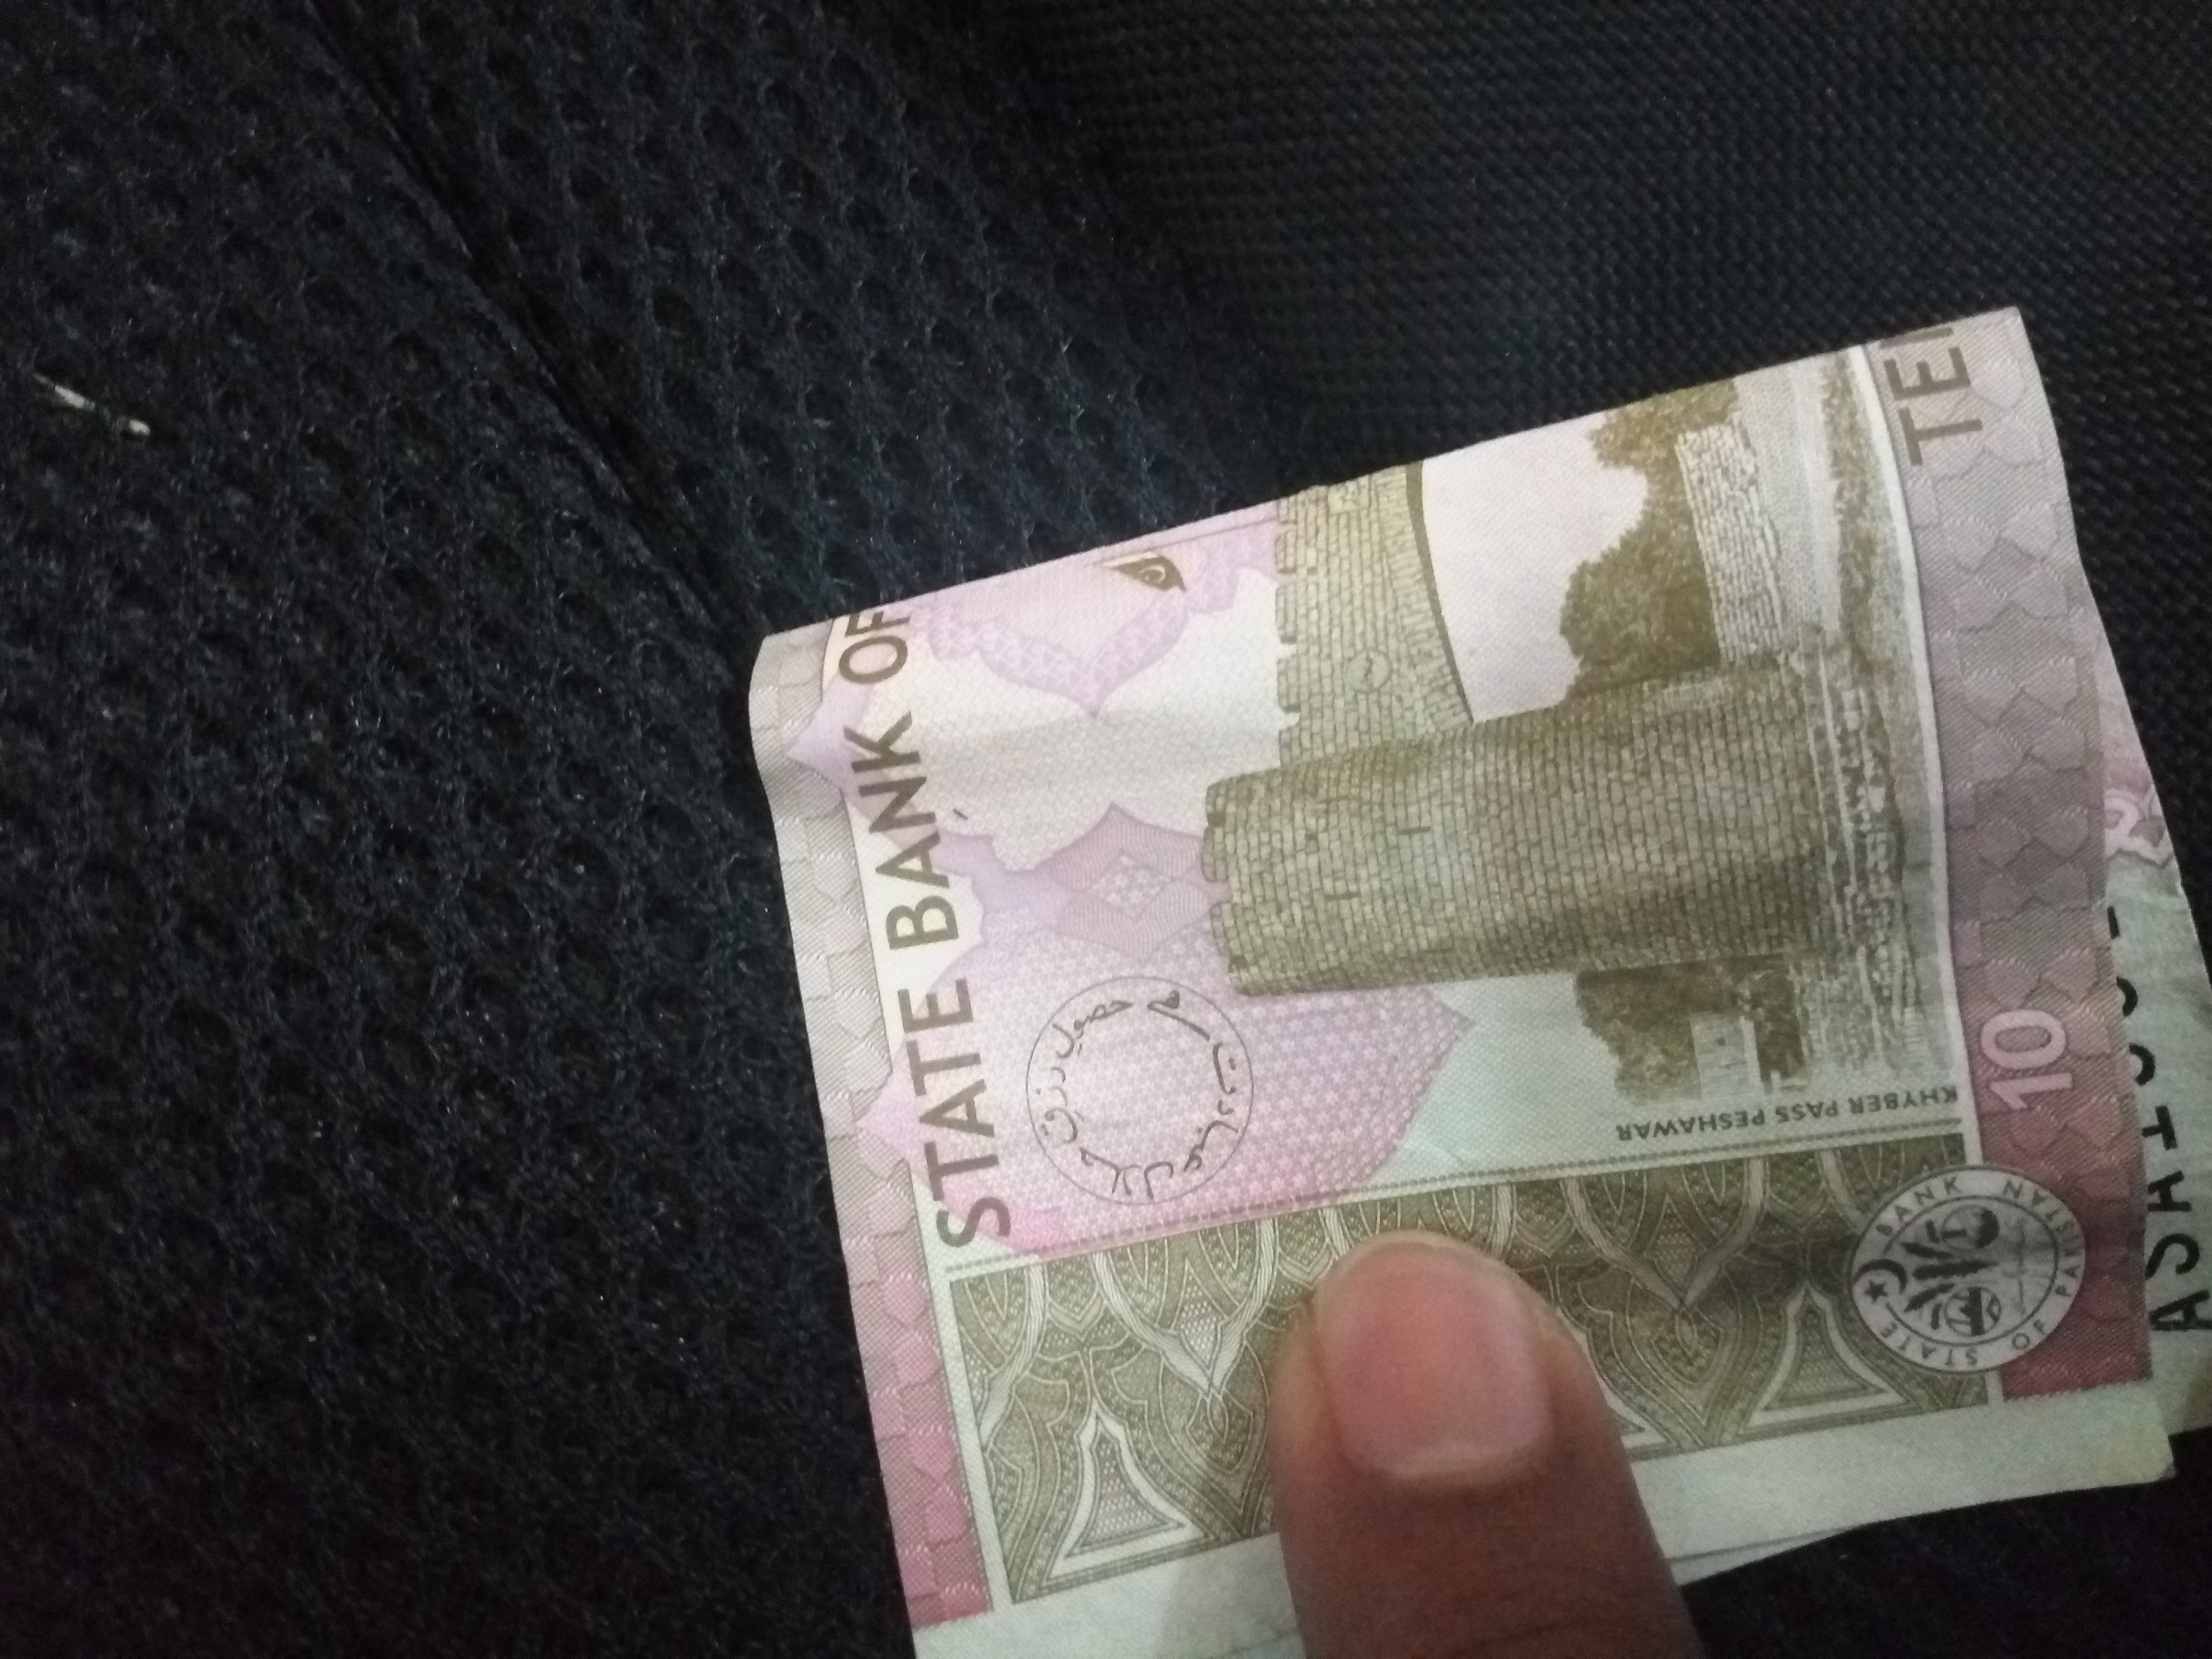10 rupee: (679, 227, 2210, 1656)
